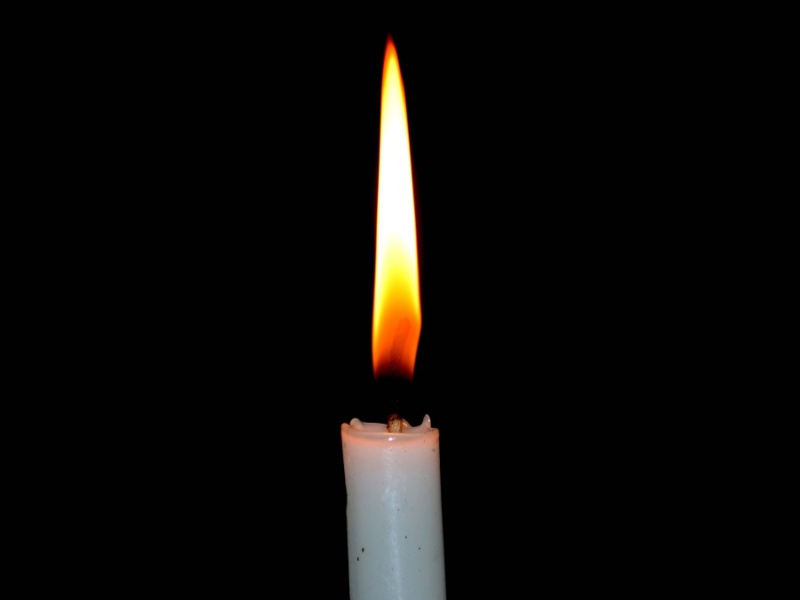fire: (364, 48, 422, 380)
